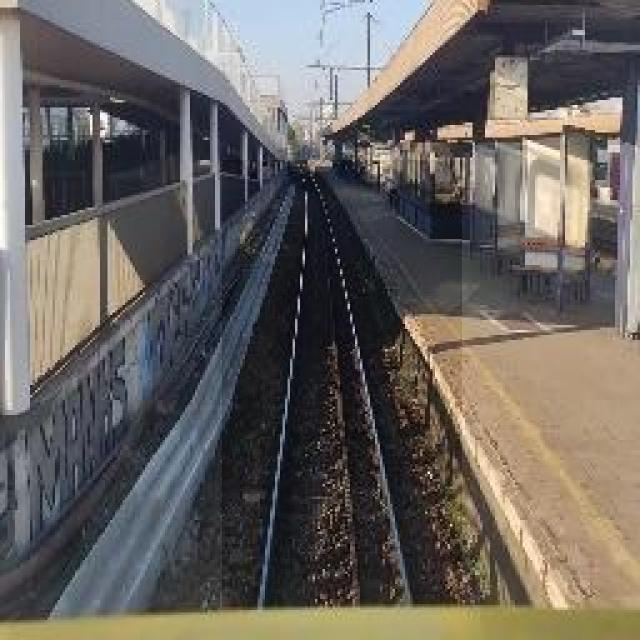rail: (223, 161, 463, 608)
